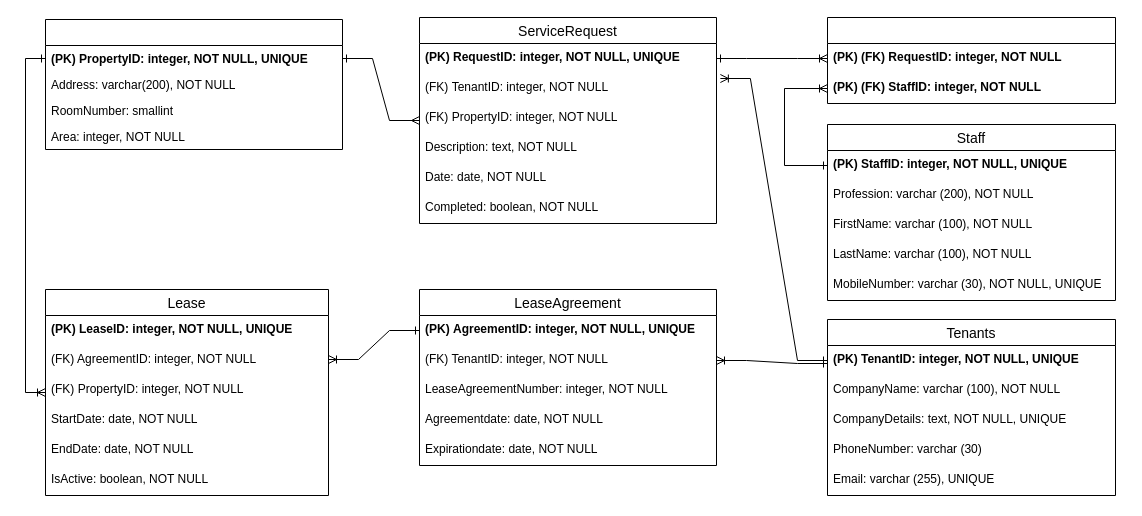
This 1142x516 diagram has some shape labels left out. Each missing label, with the box of its shape:
RentalProperty: (44, 18, 342, 150)
ServiceRequestStaff: (826, 16, 1116, 104)
